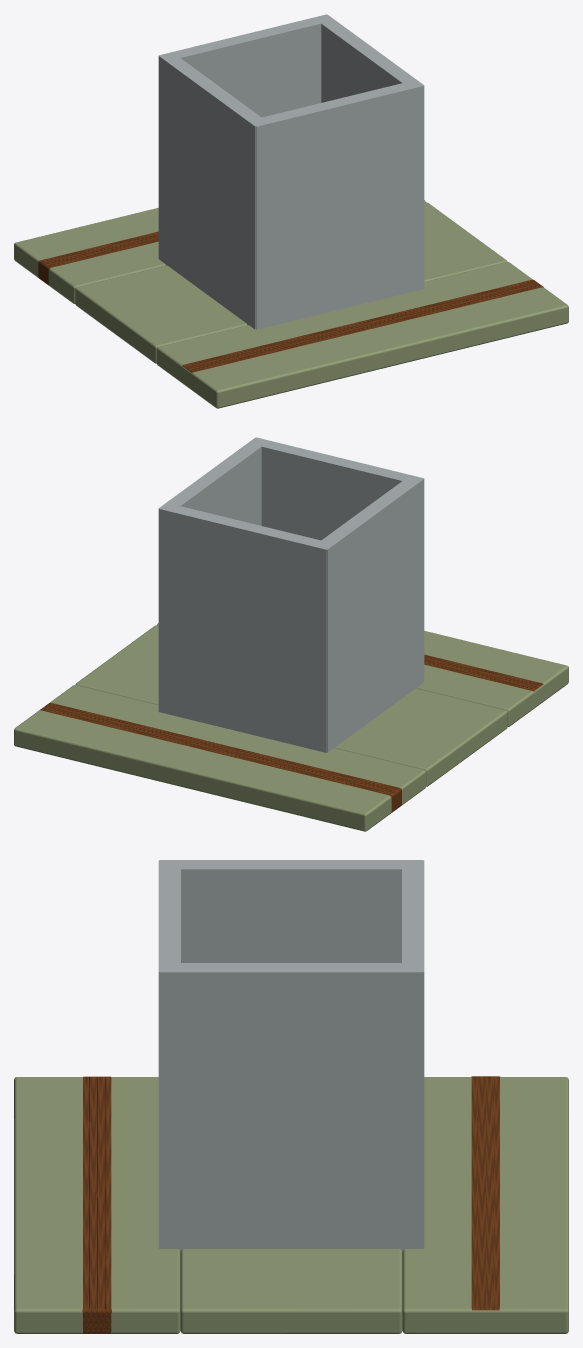
File: prehistoric-survivor-settlement-smoke-vent-roof-2cb213a2__23174.glb
3 renders of one model, top to bottom at view 1: azimuth 30°, elevation 25°; view 2: azimuth 150°, elevation 25°; view 3: azimuth 270°, elevation 25°, orthographic. The views are drawn at different scales.
Parts seen in each view (by area): view 1: smoke-vent-roof; view 2: smoke-vent-roof; view 3: smoke-vent-roof.
Part boxes in pixels (bbox=[...]): smoke-vent-roof: bbox=[14, 14, 568, 408]; smoke-vent-roof: bbox=[14, 437, 568, 831]; smoke-vent-roof: bbox=[14, 860, 568, 1333].
Size of the model in its own units: 2 by 1.2 by 2.
Materials: 3 (1 with a texture image).
